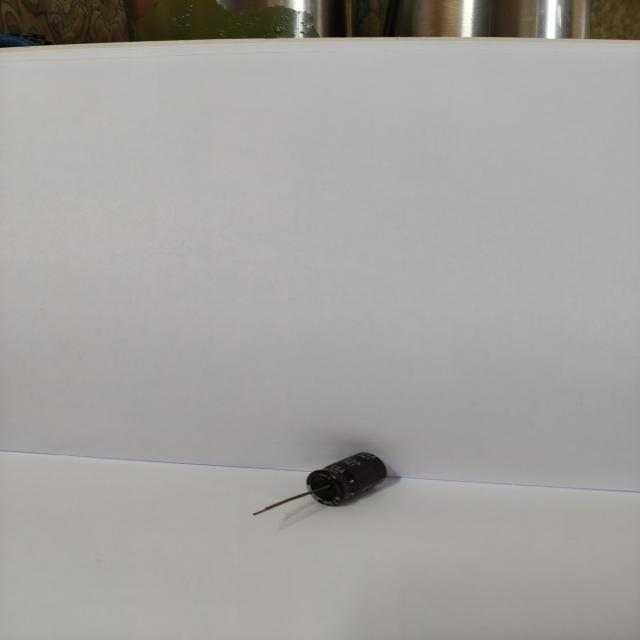capacitor: (246, 444, 394, 527)
